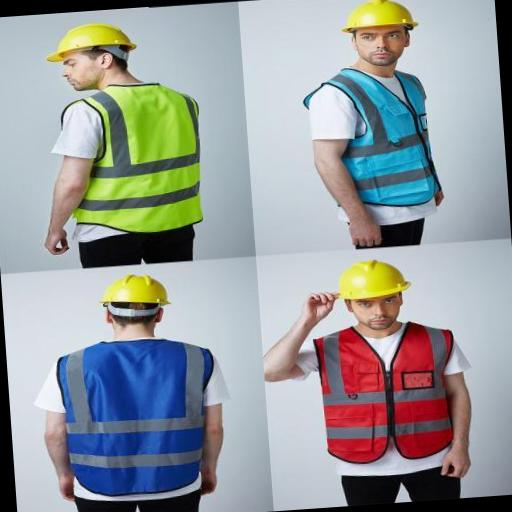No-gloves: (433, 443, 476, 483), (342, 212, 386, 250), (302, 288, 346, 322), (40, 220, 72, 258)
